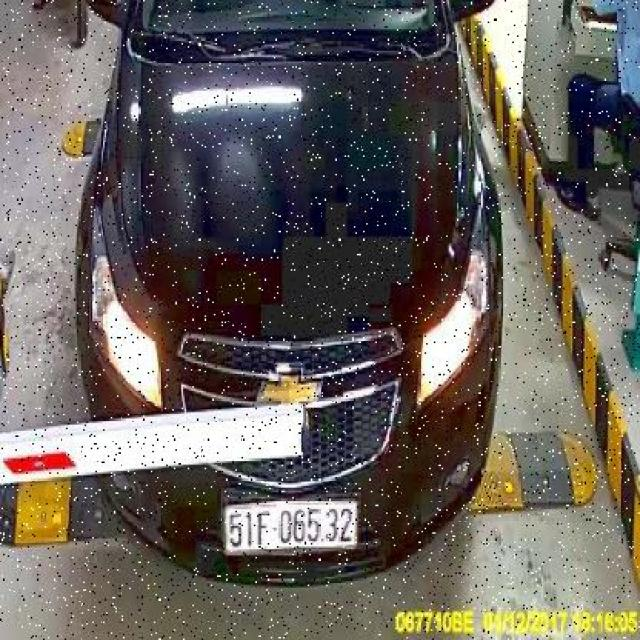number_plate: (222, 492, 368, 557)
